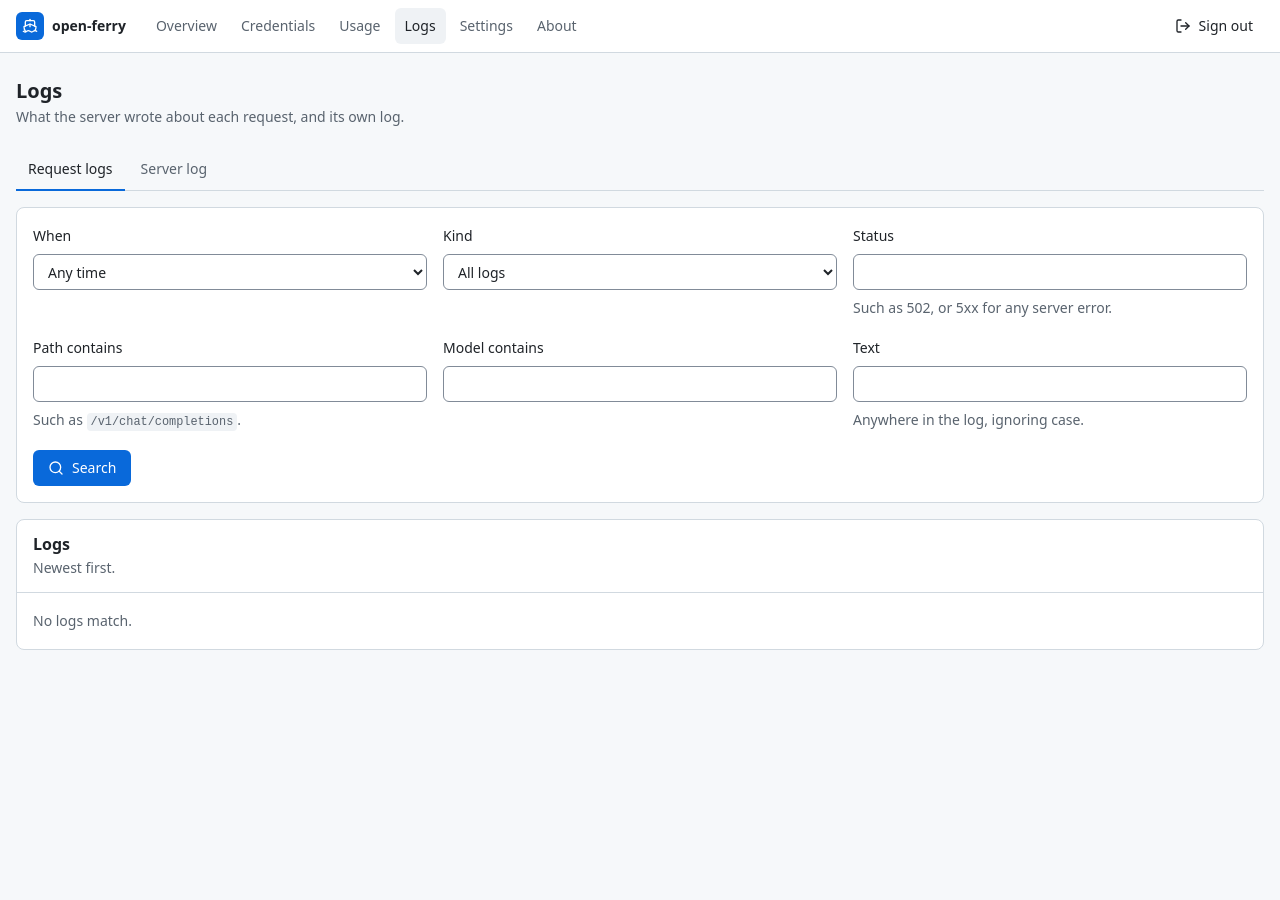
Test case: the request log search › refuses a status that isn't one, without searching
Expected: the text "No logs match." is shown, [33,611,132,630]
In the field labelled "Status": (1050, 272) [853,254,1247,290], type "50x"
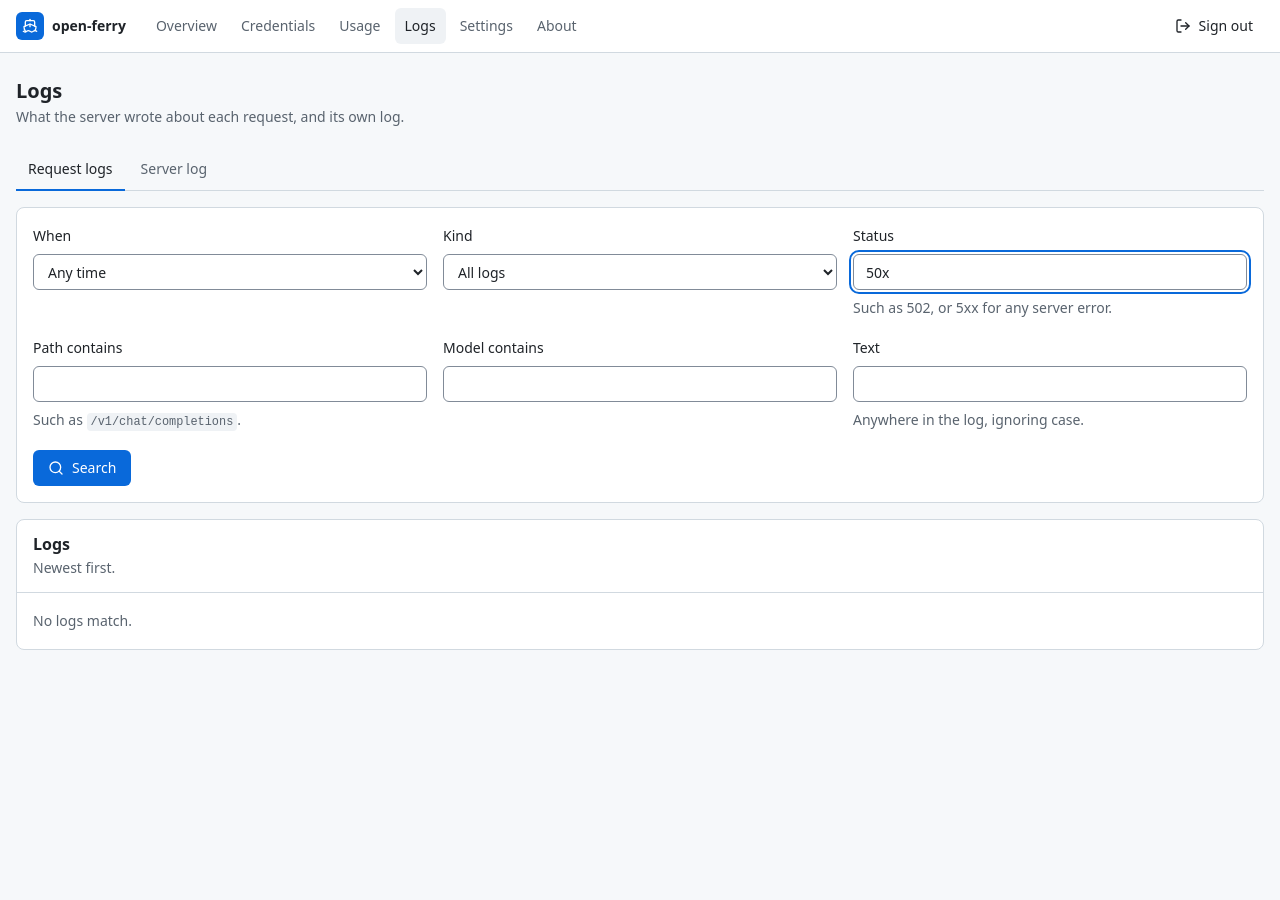
Click the button "Search": click(82, 468) [33,450,131,486]
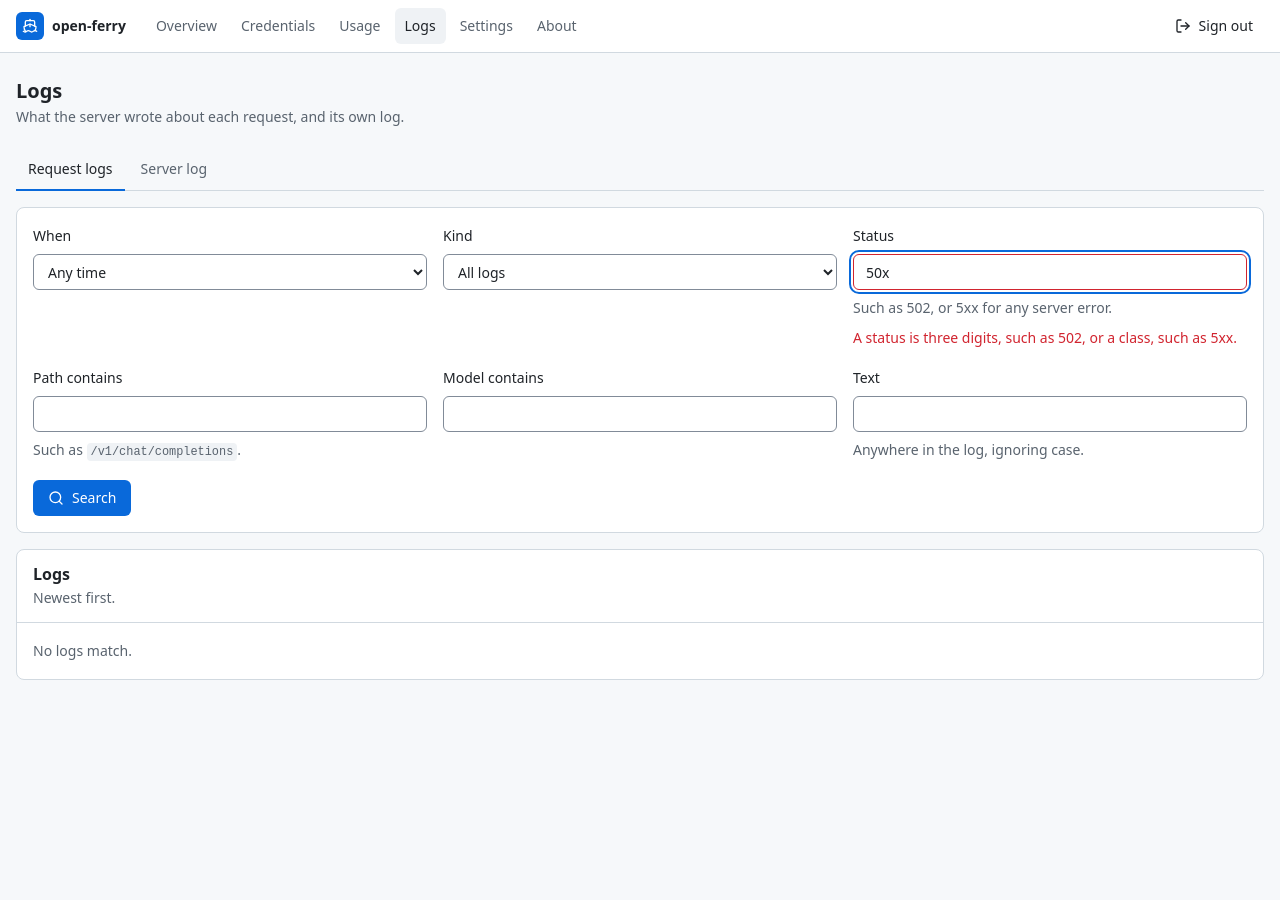
Result: the text "A status is three digits, such as 502, or a class, such as 5xx." is shown at [853,326,1247,350]
